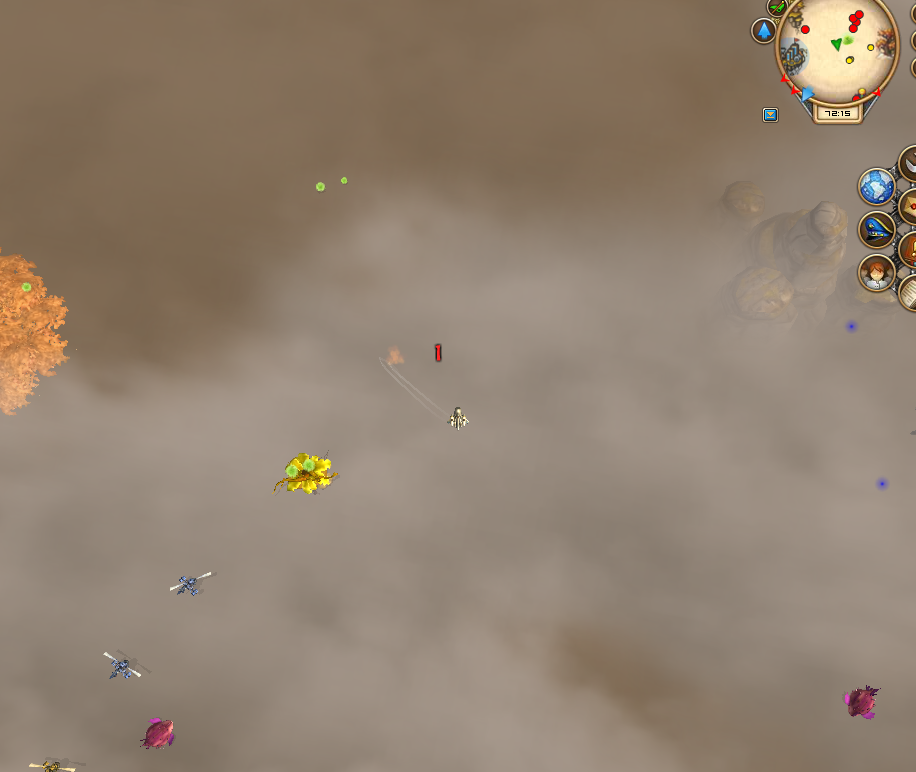dandelion-empty: (275, 448, 342, 501)
fluff: (309, 177, 331, 195), (338, 170, 351, 190)
